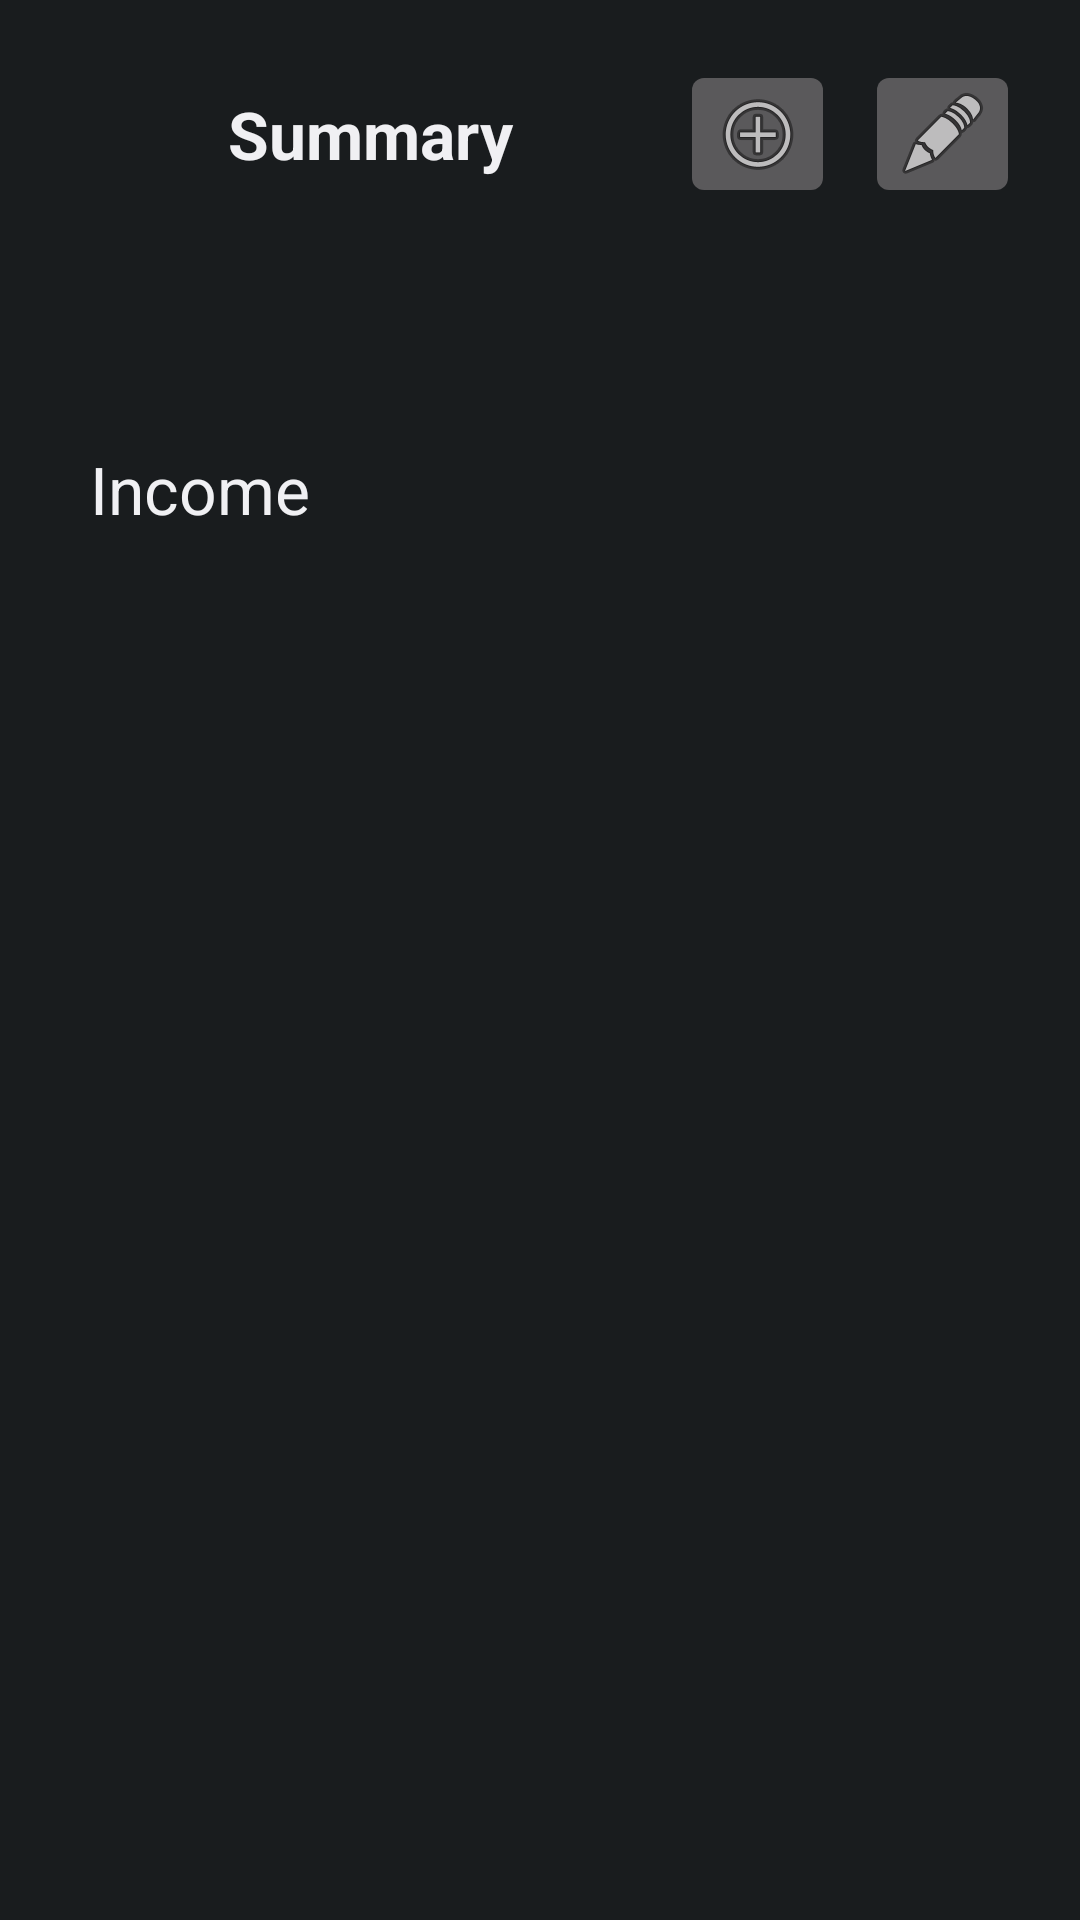

Where icons sit on this 1080×1920 app screen, as detection(x1, y1, x2, y2):
Add another: detection(692, 78, 823, 190)
An Edit Icon: detection(877, 78, 1008, 190)
